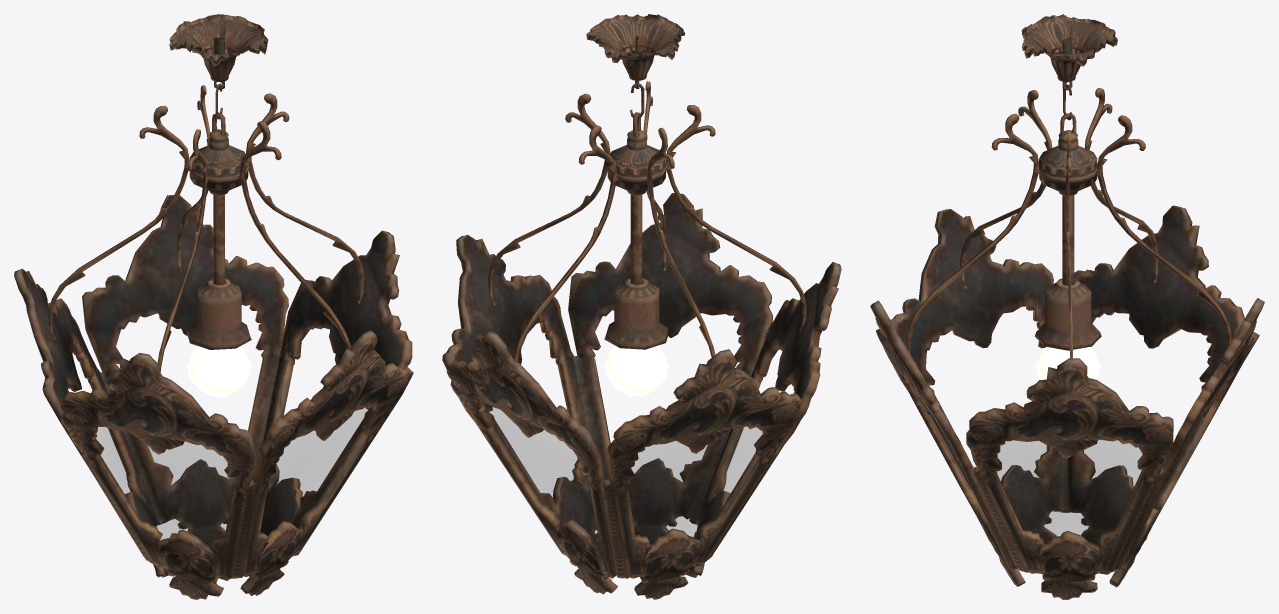
Rendered from lantern_chandelier_01.glb.
The picture shows the model from 3 angles, left to right: view 1: azimuth 30°, elevation 25°; view 2: azimuth 150°, elevation 25°; view 3: azimuth 270°, elevation 25°; orthographic projection.
Visible parts, largest first — view 1: lantern_chandelier_01; view 2: lantern_chandelier_01; view 3: lantern_chandelier_01.
Boxes of the visible parts, left/top/right/bottom form: lantern_chandelier_01: left=14, top=14, right=413, bottom=599; lantern_chandelier_01: left=442, top=14, right=841, bottom=599; lantern_chandelier_01: left=870, top=14, right=1264, bottom=599.
Bounding box in the file's own units: 0.5792 × 0.8776 × 0.5746.
Materials: 3 (2 with a texture image).
